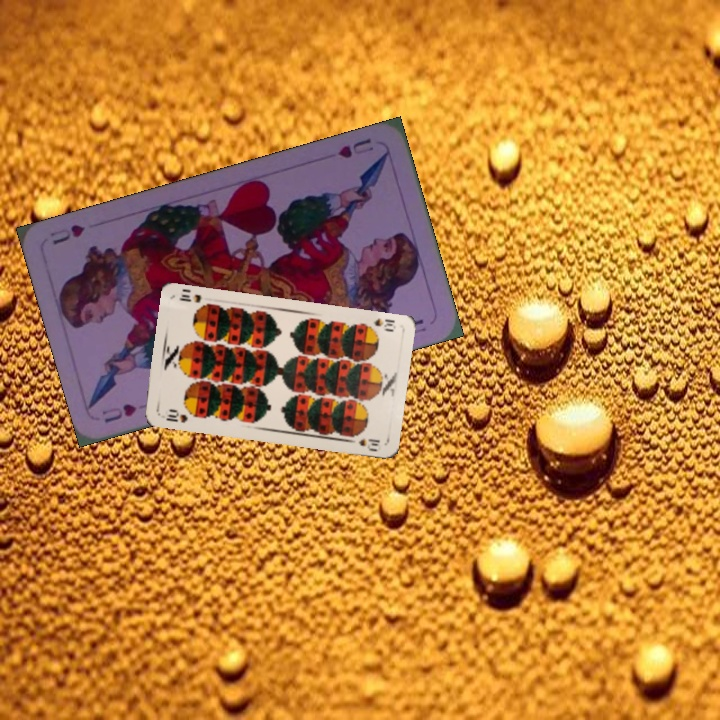HU: (333, 133, 376, 161), (98, 399, 139, 426)
S10: (360, 314, 398, 335), (162, 406, 190, 426)
